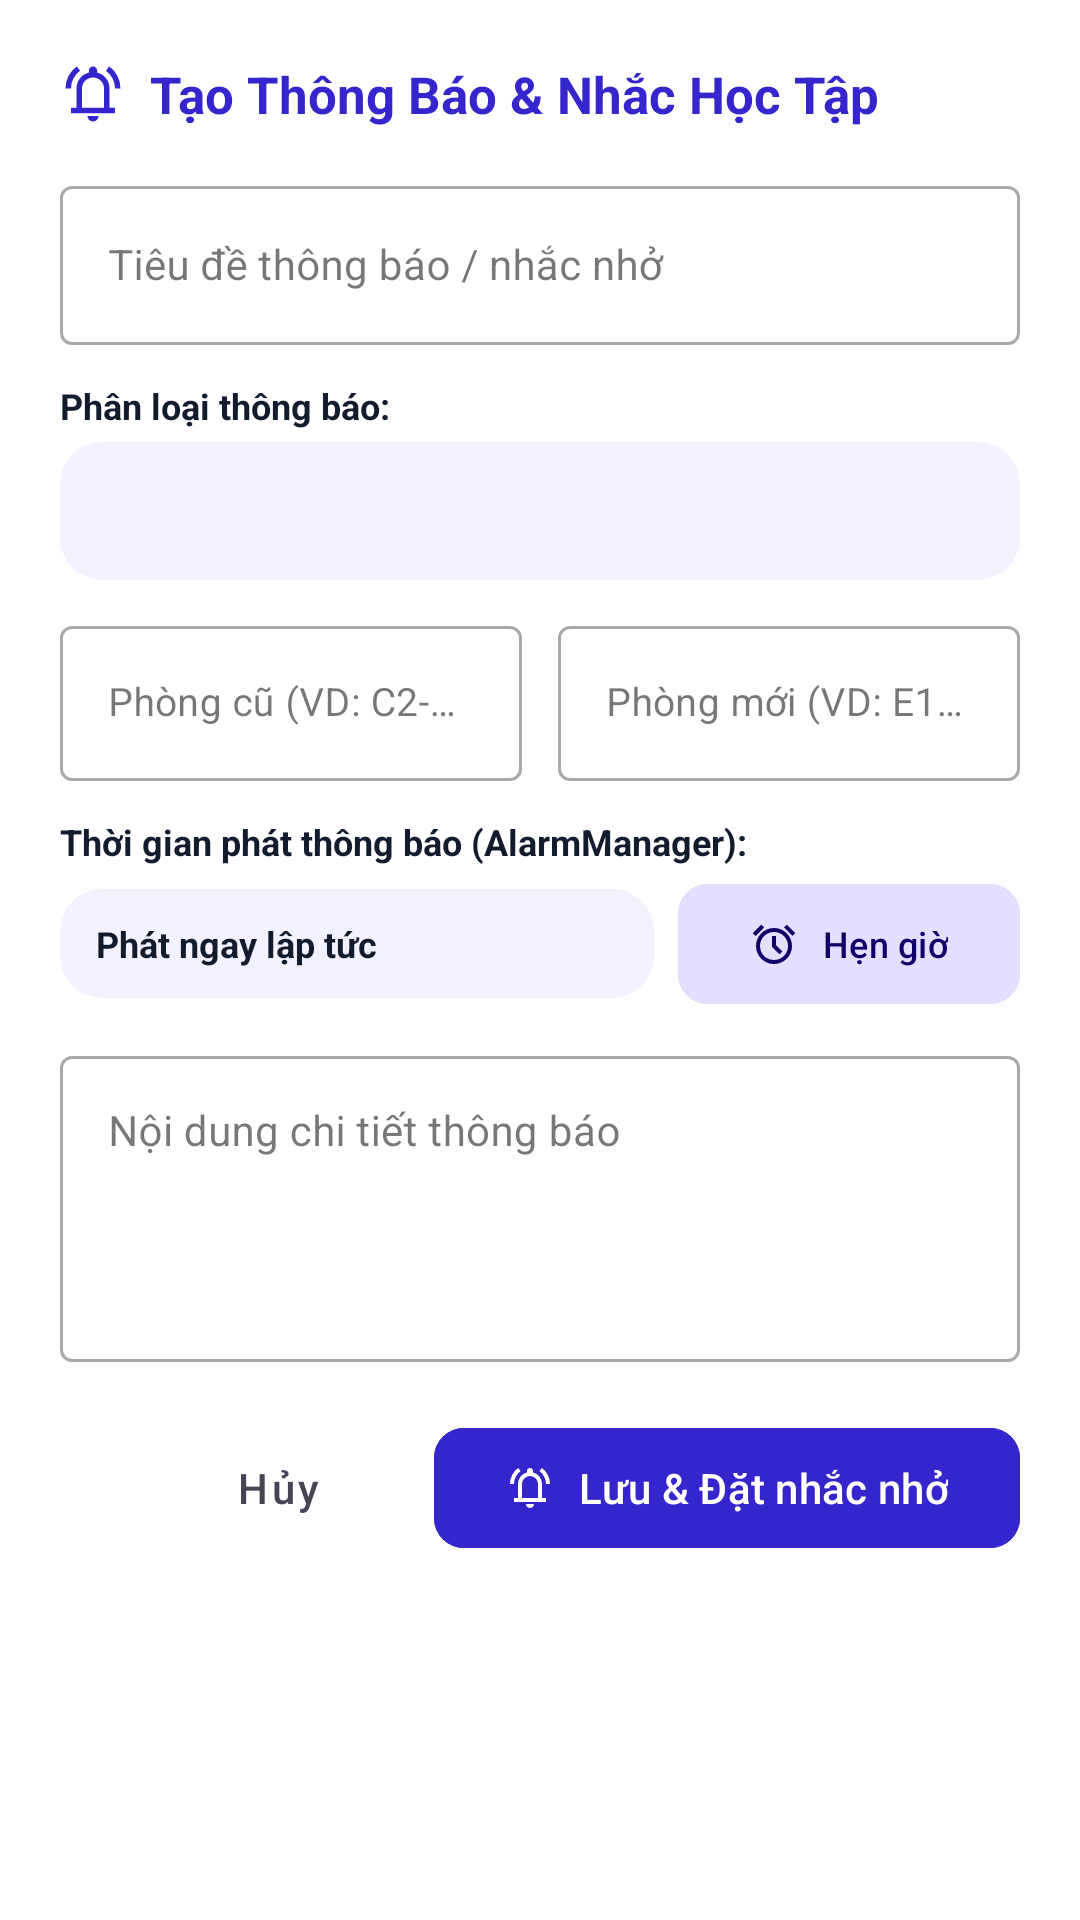

Icon click points for this 1080 x 1920 phone screenshot, format (x,y):
notifications: (93,94)
